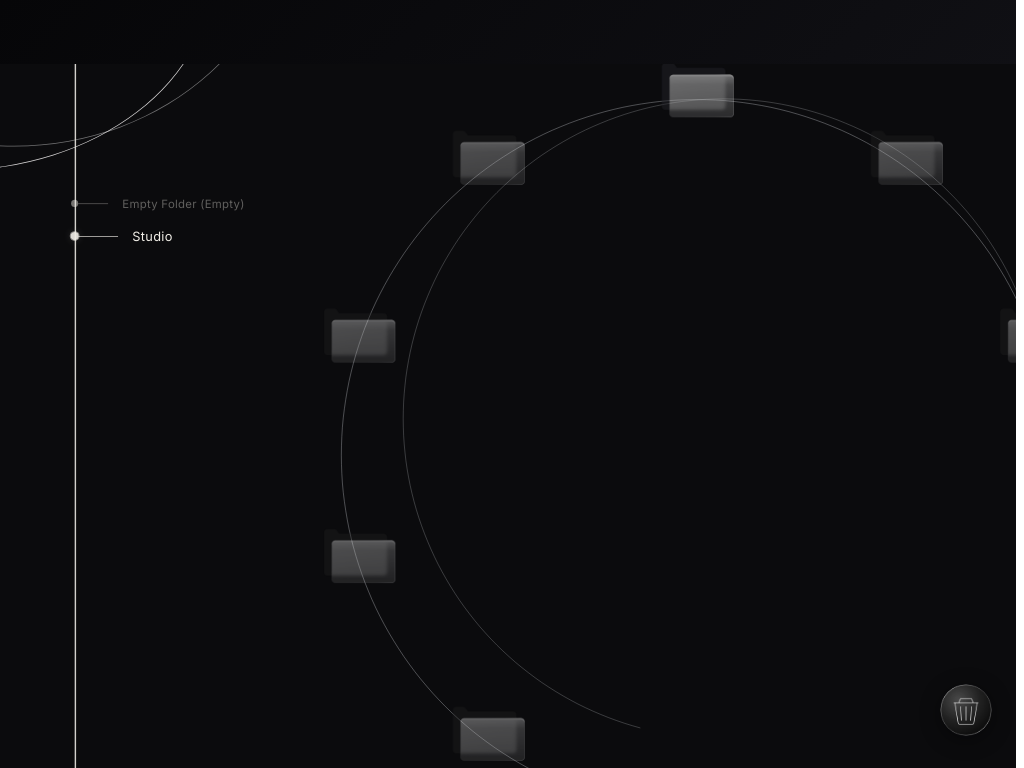
Test case: MoodboardOrbit › delete folder flow › clicking the delete icon only opens the confirm modal, without opening the folder
Click the button with test id "moodboard-folder-delete-toggle": (966, 710) left=940, top=684, right=992, bottom=736
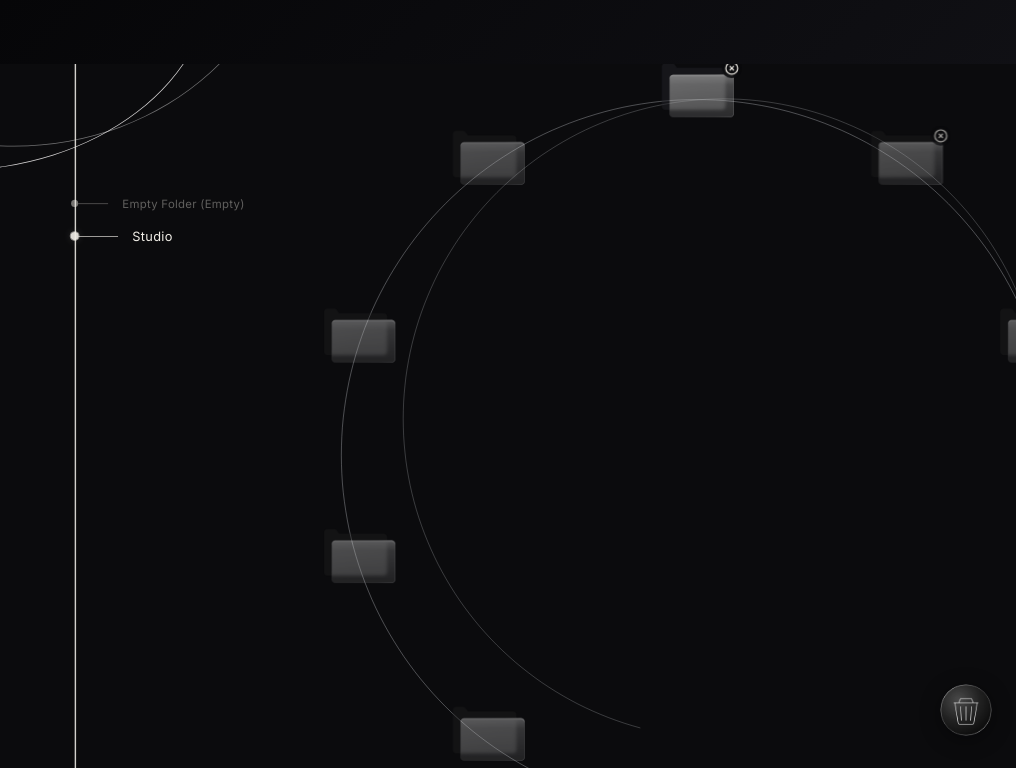
Click the button with test id "folder-delete-0": (732, 68) left=722, top=58, right=742, bottom=78
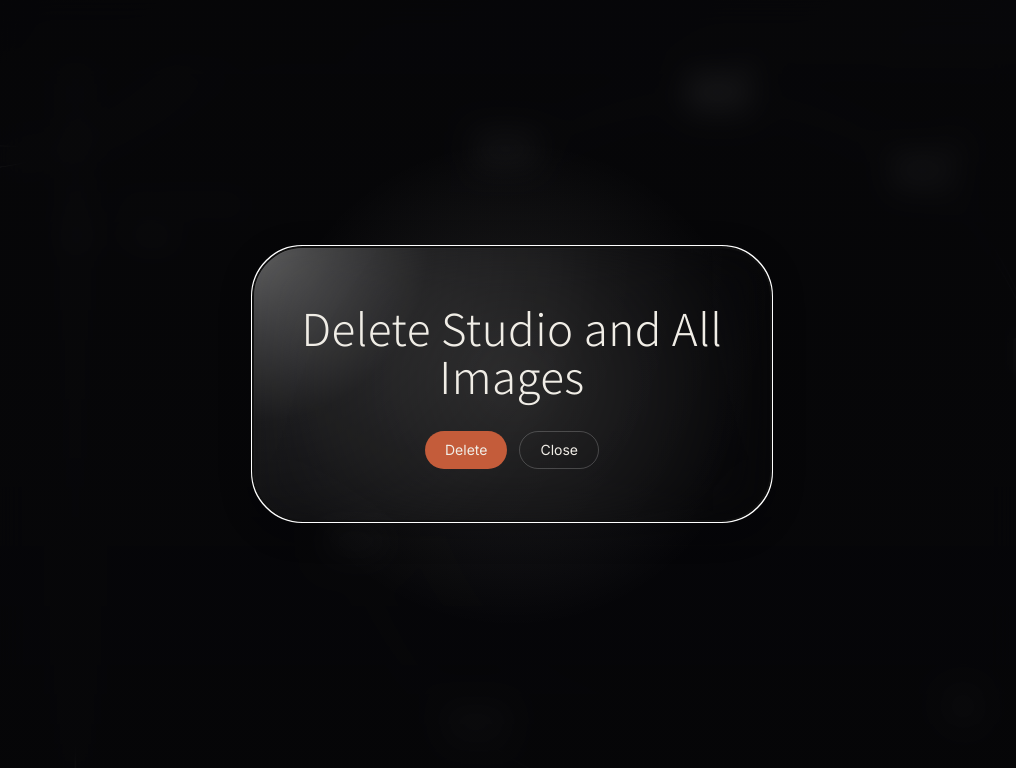
Expected: the button with test id "delete-folder-confirm" is shown, left=425, top=431, right=507, bottom=469
